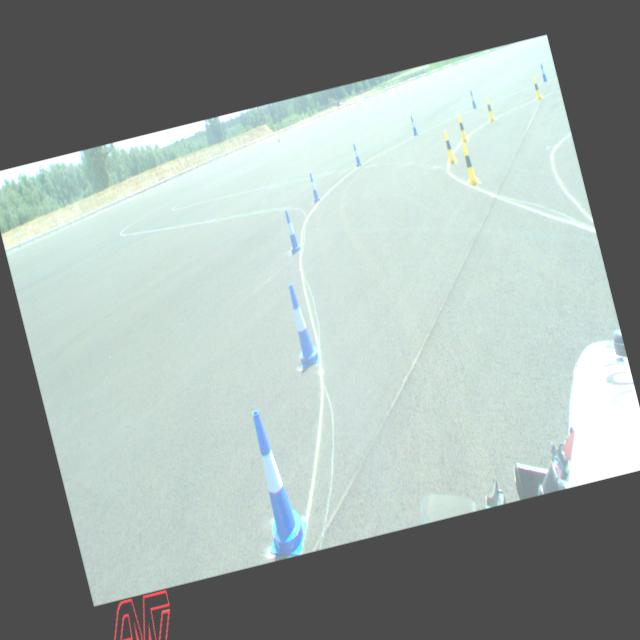blue_cone: (236, 404, 314, 561), (282, 280, 322, 369), (280, 209, 302, 254), (306, 172, 321, 202), (351, 142, 362, 166), (538, 62, 548, 82), (408, 115, 418, 135), (468, 90, 477, 108)
yellow_cone: (458, 141, 480, 186), (441, 128, 457, 164), (454, 113, 468, 142), (484, 95, 496, 122), (530, 76, 542, 100)
